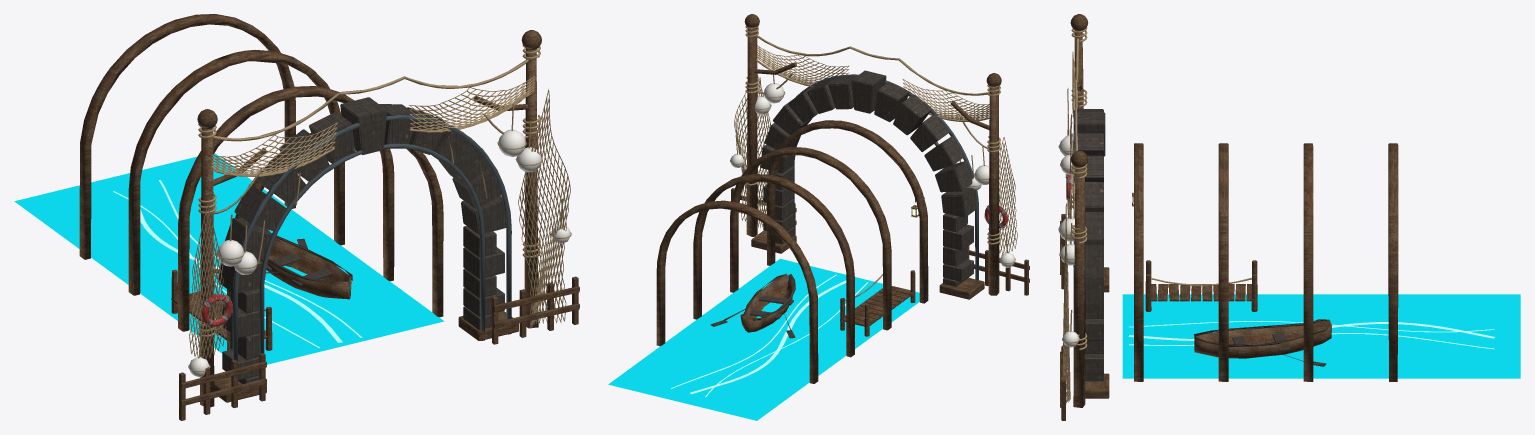
File: fachada_04.glb
3 renders of one model, left to right at view 1: azimuth 30°, elevation 25°; view 2: azimuth 150°, elevation 25°; view 3: azimuth 270°, elevation 25°, orthographic. The views are drawn at different scales.
Visible parts, largest first — view 1: F04_agua, F04_costelas, F04_redes, F04_cerca, F04_barco, F04_cinta_out, F04_cinta_in, F04_mastro-1, F04_boias, F04_mastro1, F04_aduela_06, F04_cordas (+24 smaller); view 2: F04_agua, F04_costelas, F04_redes, F04_mastro-1, F04_barco, F04_mastro1, F04_cais, F04_boias, F04_correnteza, F04_cordas, F04_aduela_06, F04_cerca (+17 smaller); view 3: F04_agua, F04_costelas, F04_barco, F04_mastro1, F04_cais, F04_redes, F04_correnteza, F04_boias, F04_aduela_06, F04_aduela_00, F04_aduela_05, F04_aduela_03 (+6 smaller).
Part boxes in pixels (left/top/right/bottom): F04_agua: left=14, top=153, right=444, bottom=364; F04_costelas: left=79, top=14, right=443, bottom=350; F04_redes: left=189, top=76, right=570, bottom=359; F04_cerca: left=179, top=276, right=579, bottom=420; F04_barco: left=213, top=228, right=352, bottom=299; F04_cinta_out: left=232, top=114, right=511, bottom=360; F04_cinta_in: left=259, top=143, right=484, bottom=353; F04_mastro-1: left=200, top=128, right=214, bottom=407; F04_boias: left=189, top=129, right=570, bottom=377; F04_mastro1: left=524, top=48, right=538, bottom=328; F04_aduela_06: left=340, top=97, right=387, bottom=154; F04_cordas: left=213, top=59, right=528, bottom=214; F04_agua: left=608, top=258, right=928, bottom=420; F04_costelas: left=656, top=120, right=928, bottom=383; F04_redes: left=734, top=45, right=1017, bottom=254; F04_mastro-1: left=988, top=87, right=999, bottom=295; F04_barco: left=710, top=273, right=795, bottom=338; F04_mastro1: left=746, top=28, right=757, bottom=236; F04_cais: left=840, top=270, right=915, bottom=336; F04_boias: left=730, top=83, right=1015, bottom=267; F04_correnteza: left=671, top=274, right=868, bottom=397; F04_cordas: left=756, top=35, right=989, bottom=148; F04_aduela_06: left=851, top=70, right=886, bottom=113; F04_cerca: left=731, top=188, right=1029, bottom=295; F04_agua: left=1122, top=294, right=1520, bottom=378; F04_costelas: left=1134, top=143, right=1398, bottom=381; F04_barco: left=1194, top=319, right=1331, bottom=366; F04_mastro1: left=1073, top=167, right=1085, bottom=407; F04_cais: left=1145, top=260, right=1257, bottom=311; F04_redes: left=1062, top=51, right=1075, bottom=404; F04_correnteza: left=1128, top=321, right=1494, bottom=349; F04_boias: left=1059, top=135, right=1079, bottom=347; F04_aduela_06: left=1073, top=112, right=1105, bottom=156; F04_aduela_00: left=1085, top=272, right=1103, bottom=304; F04_aduela_05: left=1077, top=133, right=1103, bottom=156; F04_aduela_03: left=1085, top=182, right=1103, bottom=212.
Bounding box in the file's own units: 12.15 × 8.78 × 14.17.
10 materials, 4 textured.
